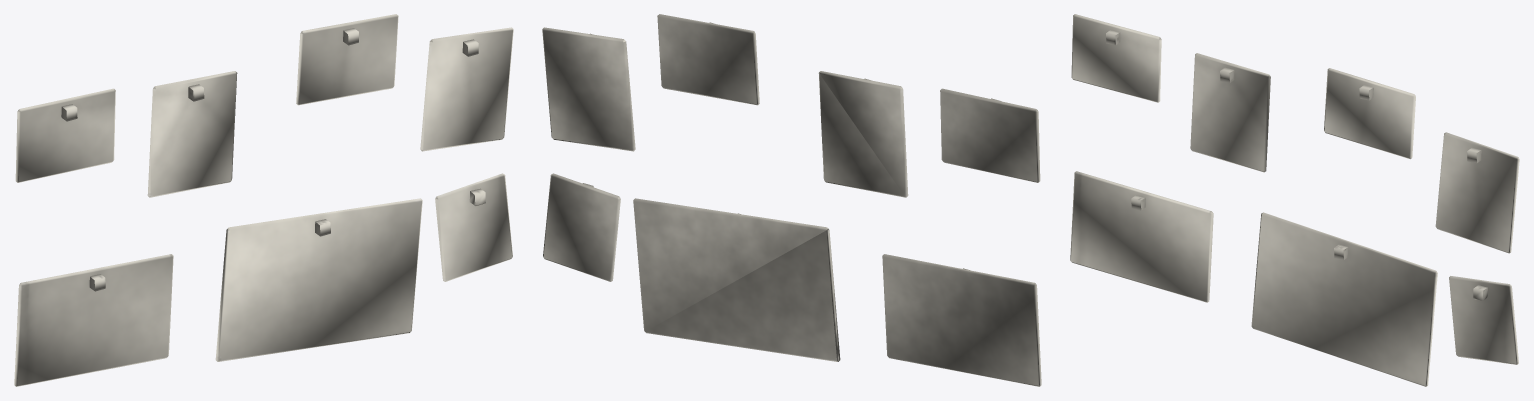
Rendered from Tablero_Papeles.fbx.
3 views of the same model, side by side, from view 1: azimuth 30°, elevation 25°; view 2: azimuth 150°, elevation 25°; view 3: azimuth 330°, elevation 25° (orthographic). The views are drawn at different scales.
Visible parts, largest first — view 1: Tablero_Papeles; view 2: Tablero_Papeles; view 3: Tablero_Papeles.
Boxes of the visible parts, x1,y1,x2,y2 form: Tablero_Papeles: [14, 14, 513, 386]; Tablero_Papeles: [542, 14, 1041, 386]; Tablero_Papeles: [1070, 14, 1519, 386].
Bounding box in the file's own units: 7.1 × 4.46 × 0.192.
